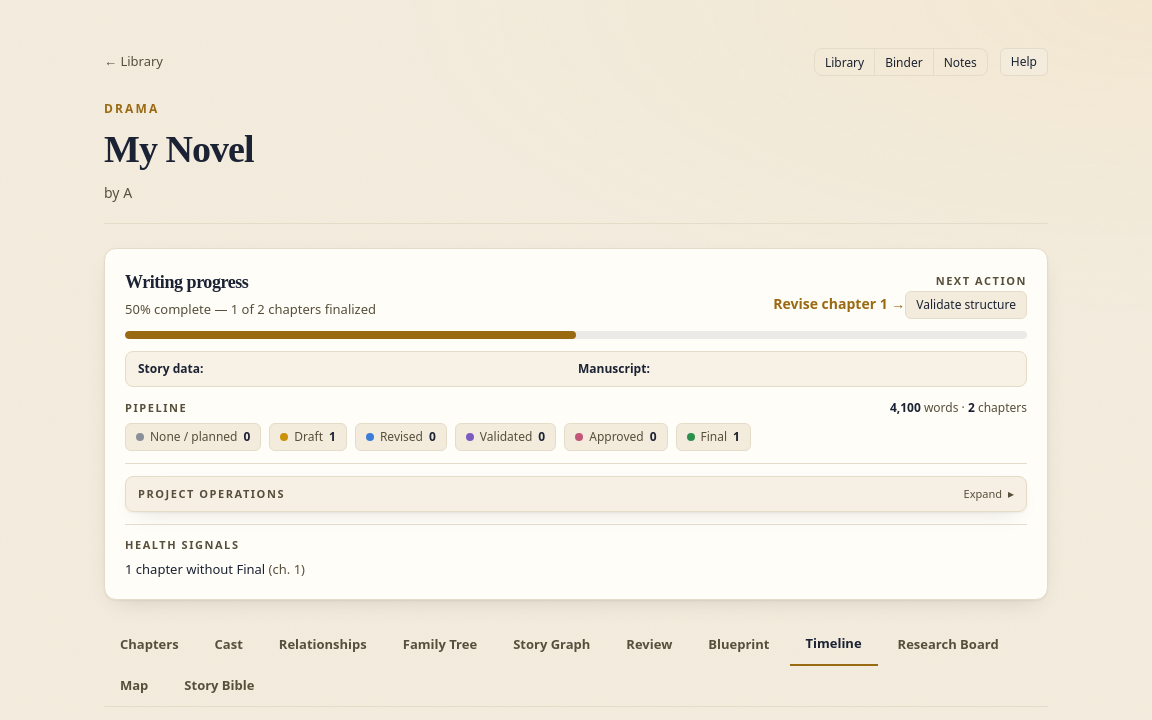
Test: pipeline buckets open filtered chapter list
The image size is (1152, 720).
Check: the heading "My Novel" is shown, box [104,128,254,170]
Click the button with aria-label "Show Draft chapters (1)": (308, 437) [269,423,347,451]
(page scrolled)
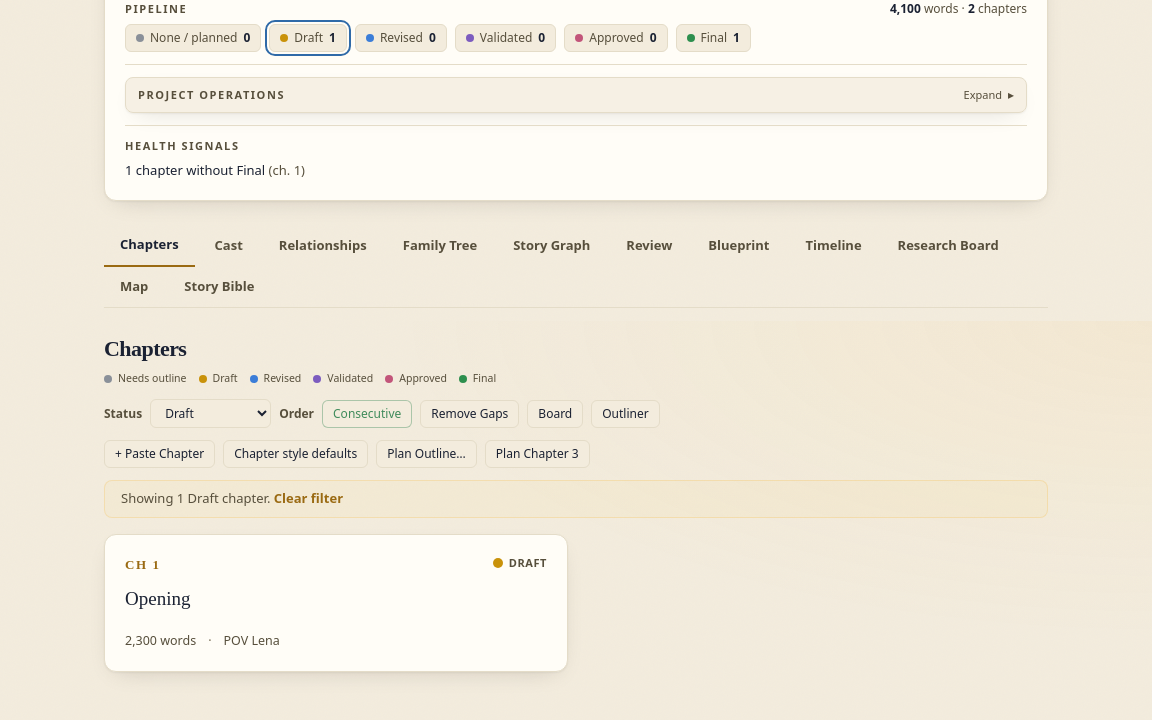
Check: the heading "Chapters" is shown, box [104,336,186,361]
Check: the dropdown named "Filter chapters by status" shows "Draft", box [150,399,271,428]
Check: the text "Opening" is shown, box [125,588,190,609]
